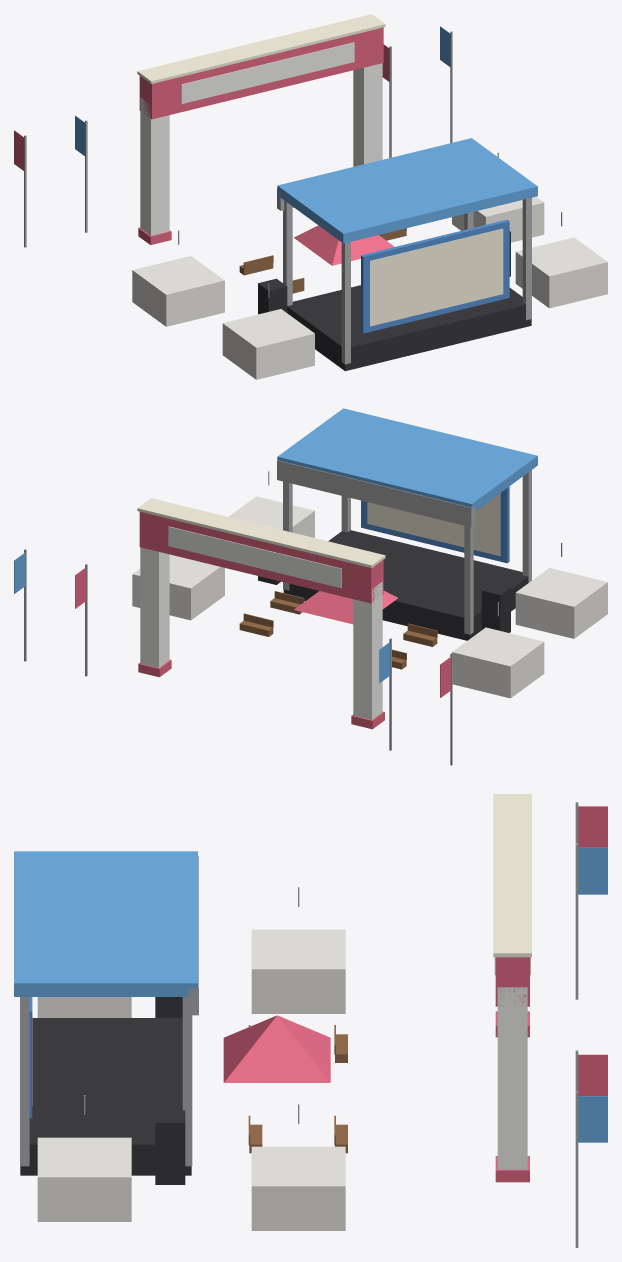
Rendered from festival.glb.
3 views of the same model, one above another, from view 1: azimuth 30°, elevation 25°; view 2: azimuth 150°, elevation 25°; view 3: azimuth 270°, elevation 25° (orthographic). The views are drawn at different scales.
Parts seen in each view (by area): view 1: festival; view 2: festival; view 3: festival.
Part boxes in pixels (x1,y1,x2,y2): festival: [14, 14, 607, 379]; festival: [14, 408, 607, 765]; festival: [14, 794, 607, 1247].
Bounding box in the file's own units: 32.12 × 12.3 × 27.75.
